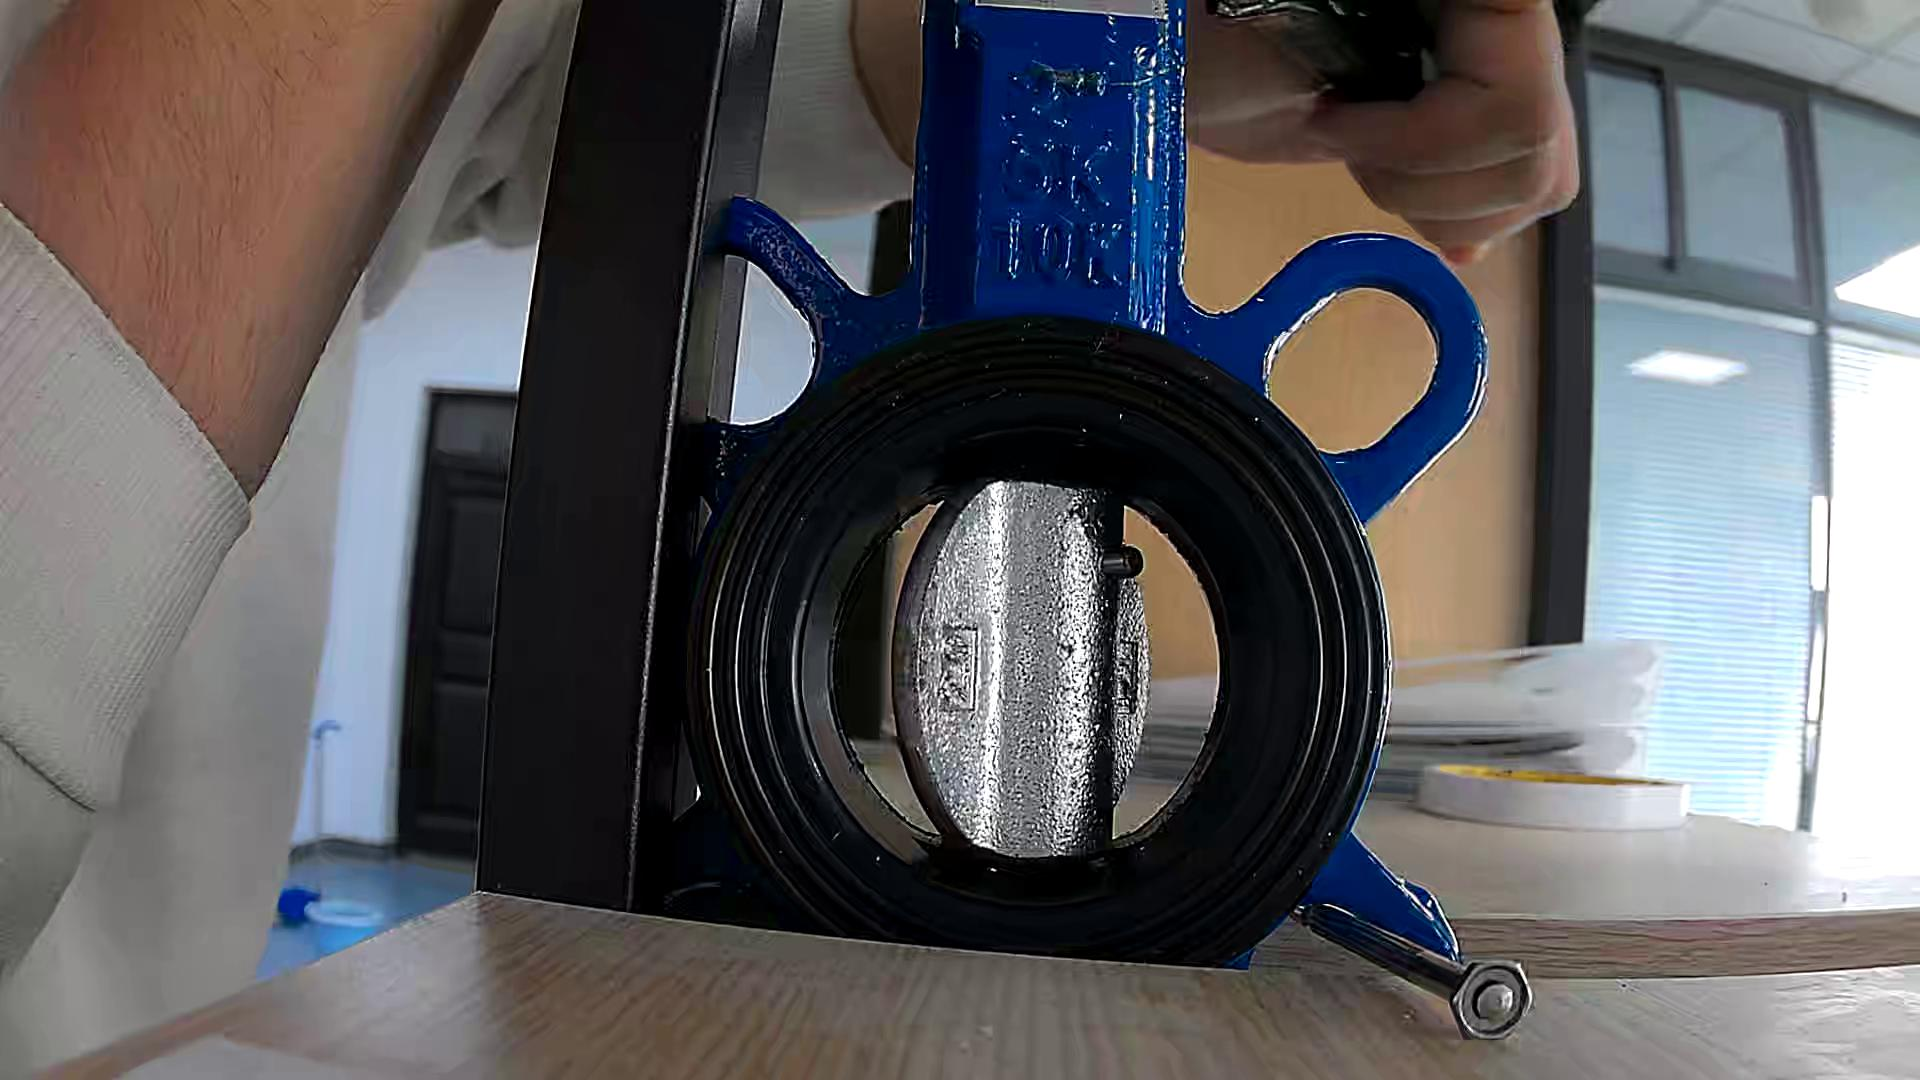valve: (893, 480, 1147, 858)
